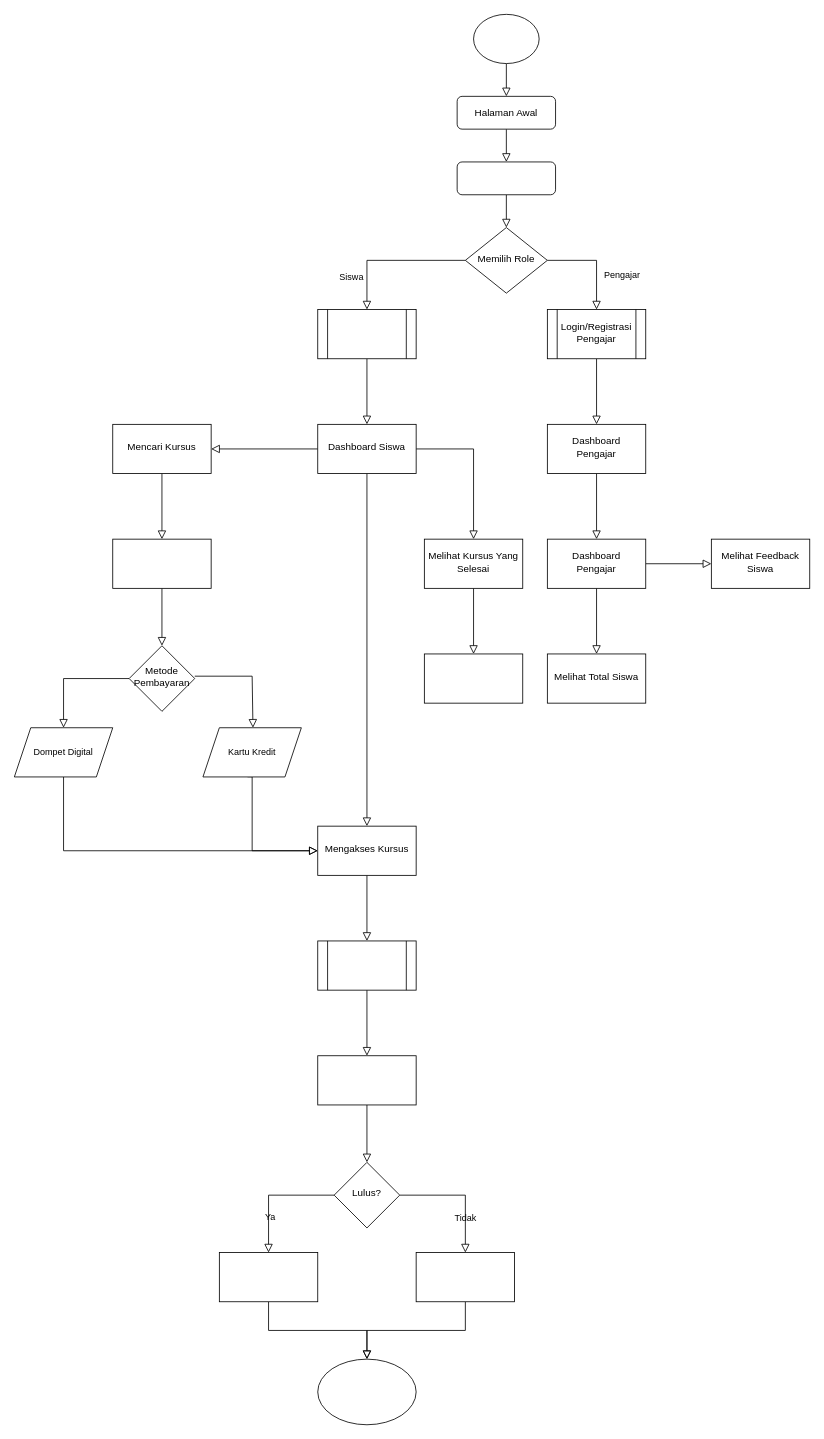
The diagram is 824 pixels wide and 1439 high, and some of its shapes have lost their labels. Here are the shapes that lost their labels. From the top down, the centre of each, then its label:
the point at 506,178: Halaman Login/Registrasi
the point at 366,334: Login/Registrasi Siswa
the point at 161,563: Memilih Kursus
the point at 473,678: Melihat Sertifikat
the point at 366,965: Mengerjakan Kursus
the point at 366,1080: Mengerjakan Final Exam
the point at 268,1277: Mendownload Sertifikat
the point at 465,1277: Mengulangi Final Exam
